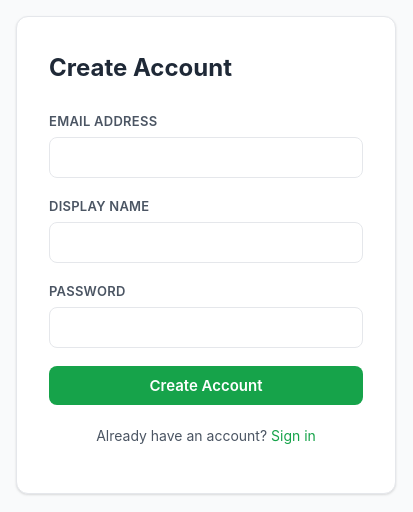
RegisterPage › submits successfully and shows success message
Type "test@example.com" into the field labelled "Email address" at (206, 158), box x1=49 y1=137 x2=363 y2=178
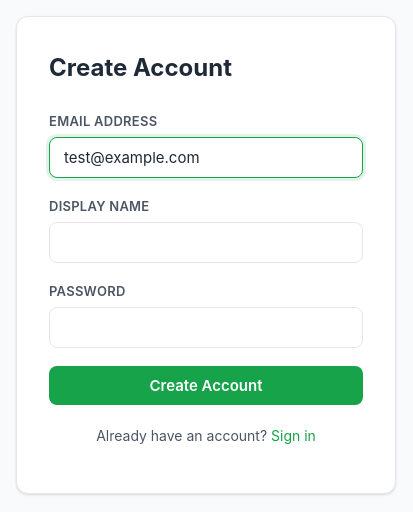
Type "Test User" into the field labelled "Display name" at (206, 242), box x1=49 y1=222 x2=363 y2=263
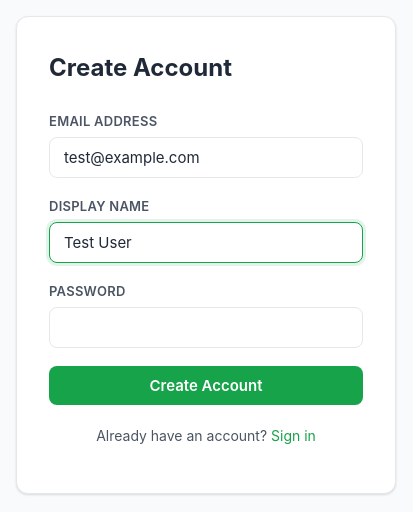
Type "password123" into the password field labelled "Password" at (206, 327), box x1=49 y1=307 x2=363 y2=348
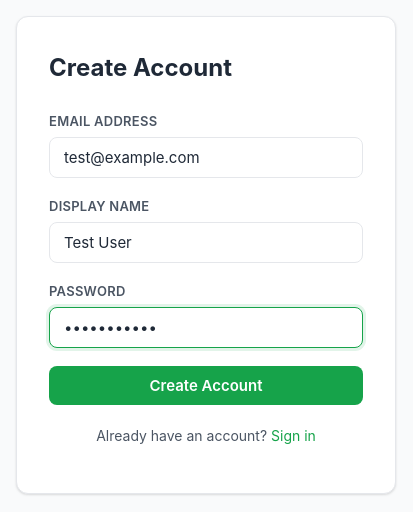
Click the button "Create Account" at (206, 385), box x1=49 y1=366 x2=363 y2=405
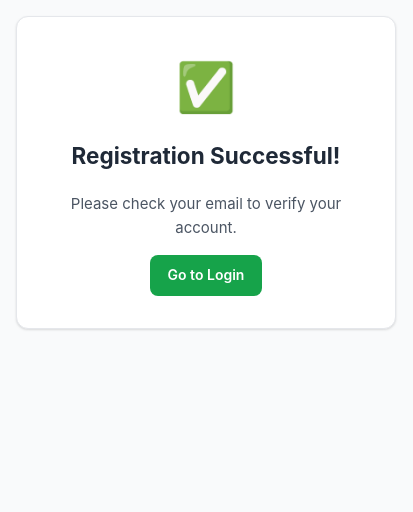
Expected: the heading "Registration Successful!" is shown, x1=49 y1=138 x2=363 y2=174
